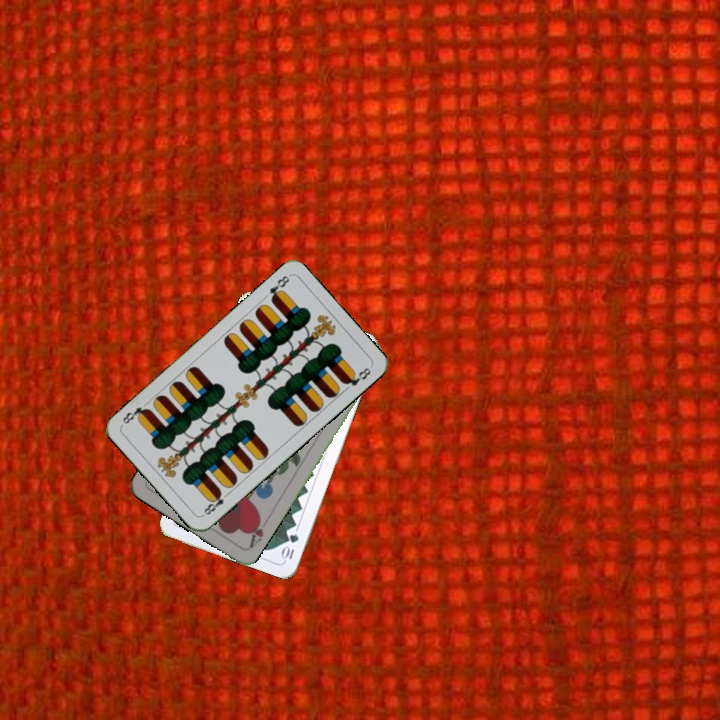E8: (199, 487, 233, 518), (265, 271, 292, 305)
G10: (278, 529, 301, 563)
HA: (245, 512, 266, 551)
